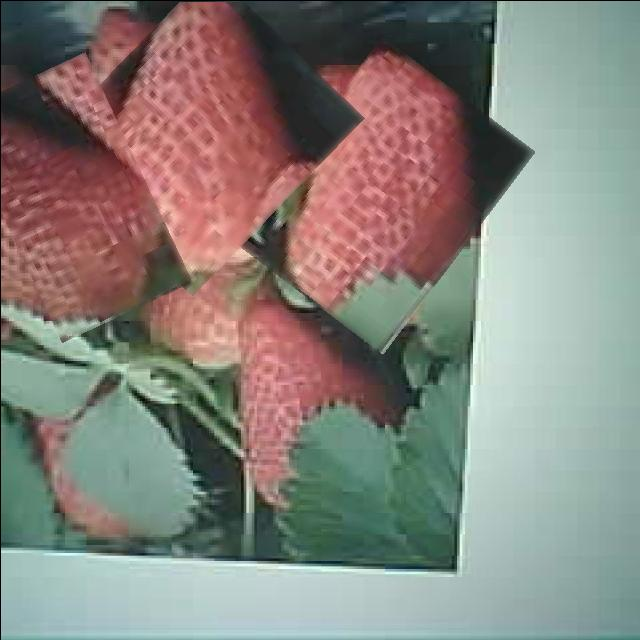strawberry: (66, 0, 336, 276), (258, 51, 507, 338), (0, 60, 167, 333)
